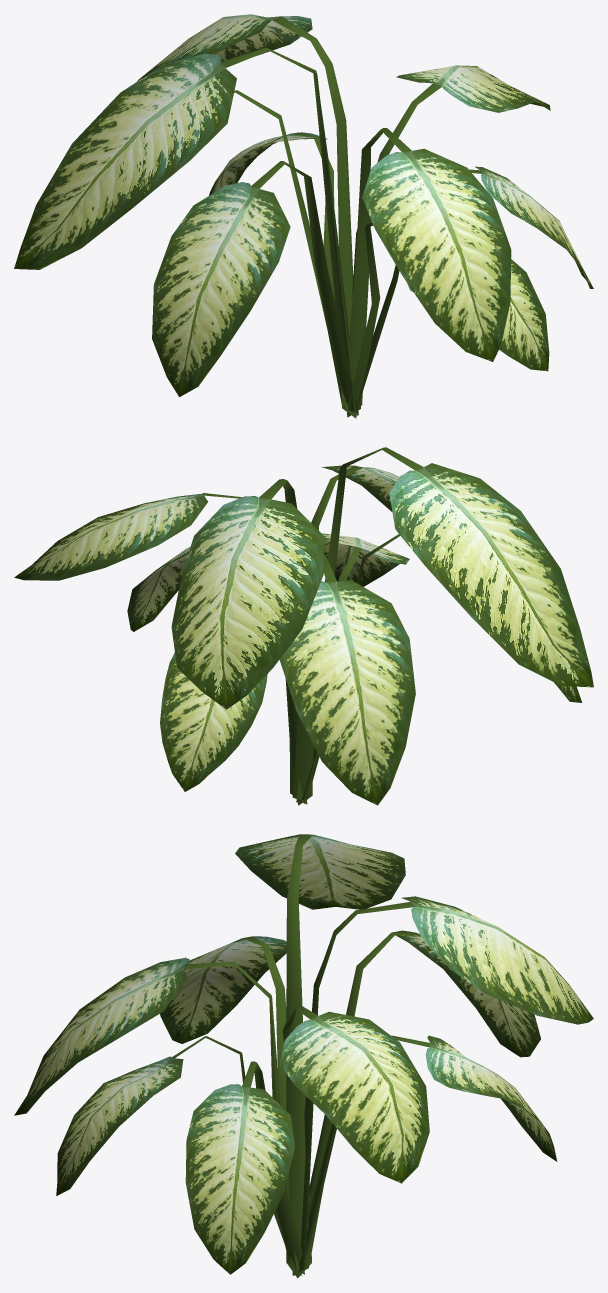
Rendered from Dieffenbachia1.fbx.
3 renders of one model, top to bottom at view 1: azimuth 30°, elevation 25°; view 2: azimuth 150°, elevation 25°; view 3: azimuth 270°, elevation 25°, orthographic. The views are drawn at different scales.
Visible parts, largest first — view 1: Dieffenbachia1; view 2: Dieffenbachia1; view 3: Dieffenbachia1.
Boxes of the visible parts, x1,y1,x2,y2 form: Dieffenbachia1: (14,14,593,418); Dieffenbachia1: (14,447,593,805); Dieffenbachia1: (14,834,593,1278).
Bounding box in the file's own units: 76.64 × 50.32 × 68.
